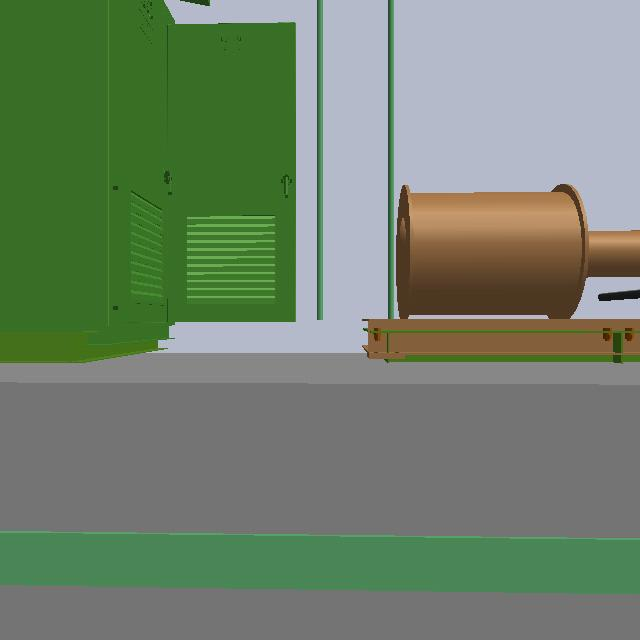Poste: (383, 1, 397, 324), (314, 1, 325, 325)
